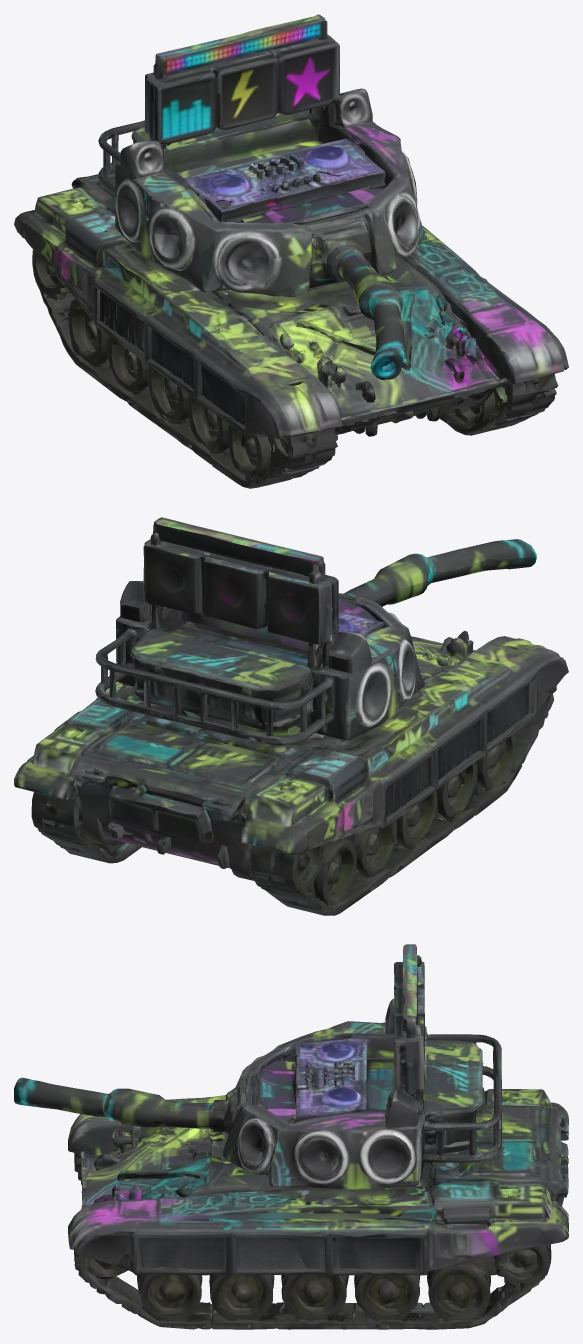
The model's file is VH_DECKHOUND_parts.glb.
3 views of the same model, one above another, from view 1: azimuth 30°, elevation 25°; view 2: azimuth 150°, elevation 25°; view 3: azimuth 270°, elevation 25° (orthographic). The views are drawn at different scales.
Bounding box in the file's own units: 0.5612 × 0.5815 × 1.
Materials: 1 (1 with a texture image).
